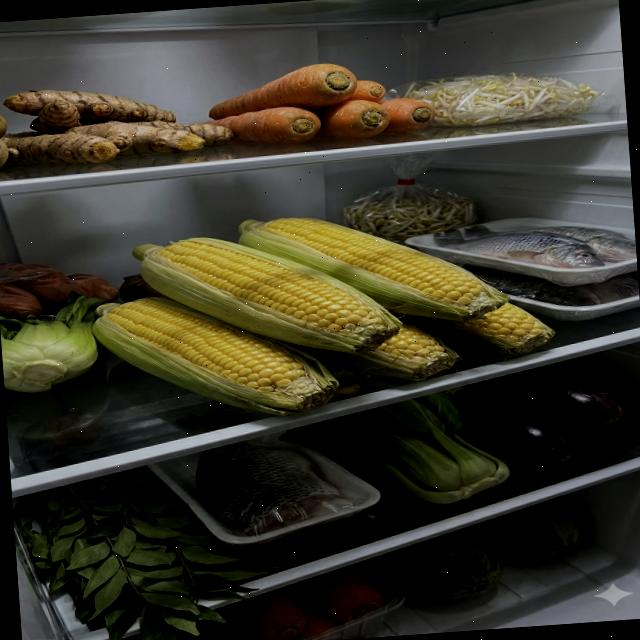bean_sprouts: (401, 66, 600, 131), (340, 191, 480, 250)
carrot: (198, 55, 436, 150), (227, 563, 385, 640)
corn: (84, 198, 562, 430)
curry_leaves: (16, 461, 276, 640)
eggplant: (442, 358, 640, 473)
fish: (192, 434, 342, 538), (431, 214, 637, 279), (460, 252, 639, 315)
pakchoy: (274, 387, 512, 515), (0, 293, 112, 394)
